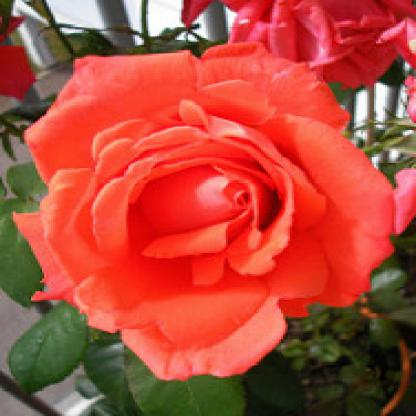Rose-Mawar: (14, 38, 397, 376)
